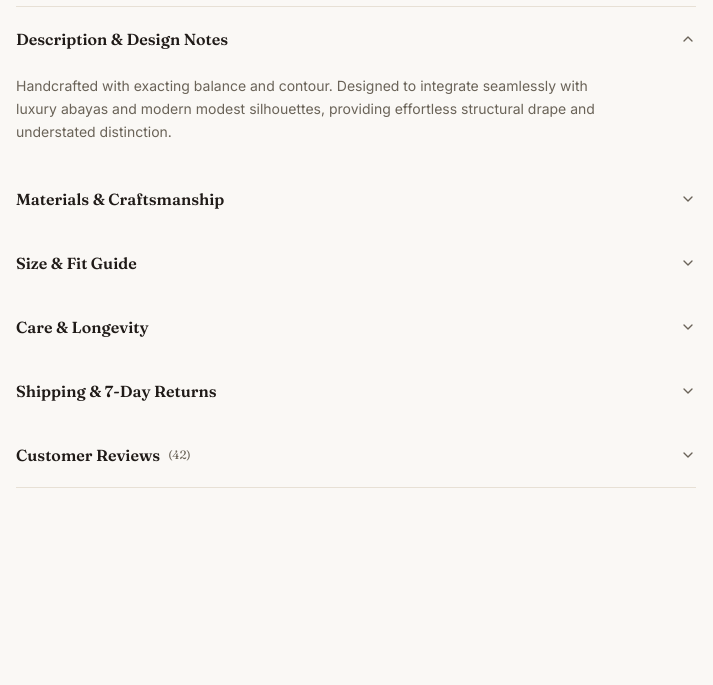
it: ProductAccordion Component › renders customer reviews breakdown and expands more reviews on button click
This screenshot has width=713, height=685.
Note: Expand Reviews
Click the text "Customer Reviews": (88,455) [16,443,160,467]
(page scrolled)
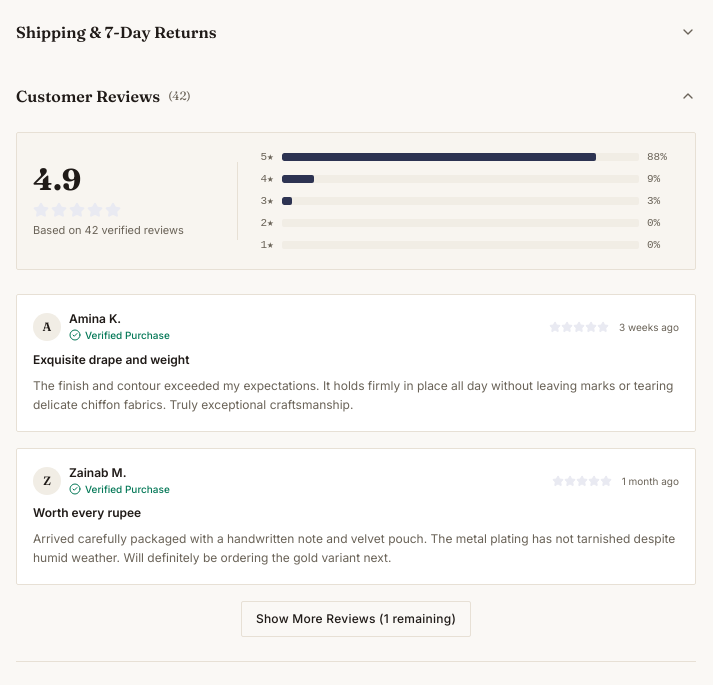
Expected: the text "4.9" is shown, [33,162,81,198]
Expected: the text "Based on 42 verified reviews" is shown, [33,222,184,240]
Expected: the text "Amina K." is shown, [69,311,121,326]
Click the button "Show More Reviews (1 remaining)": (356,619) [241,601,471,637]
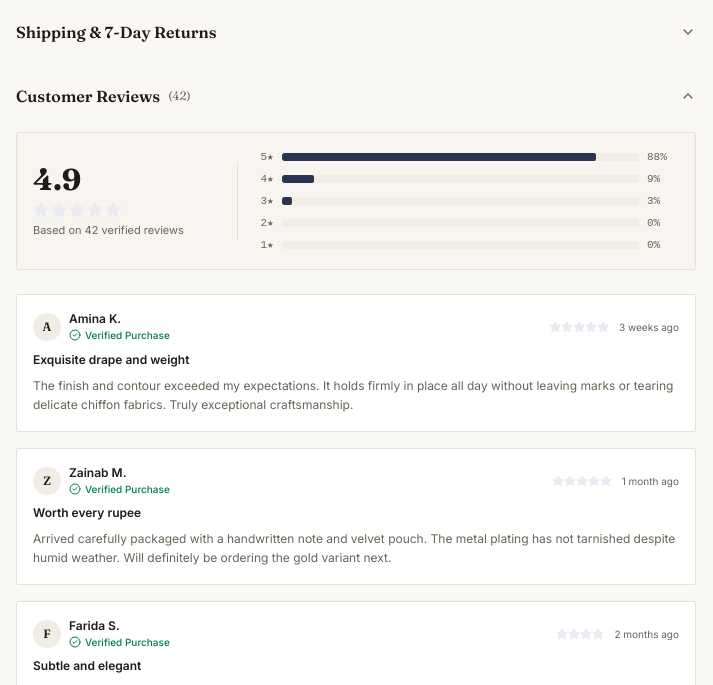
Expected: the text "Farida S." is shown, [69,618,120,633]
